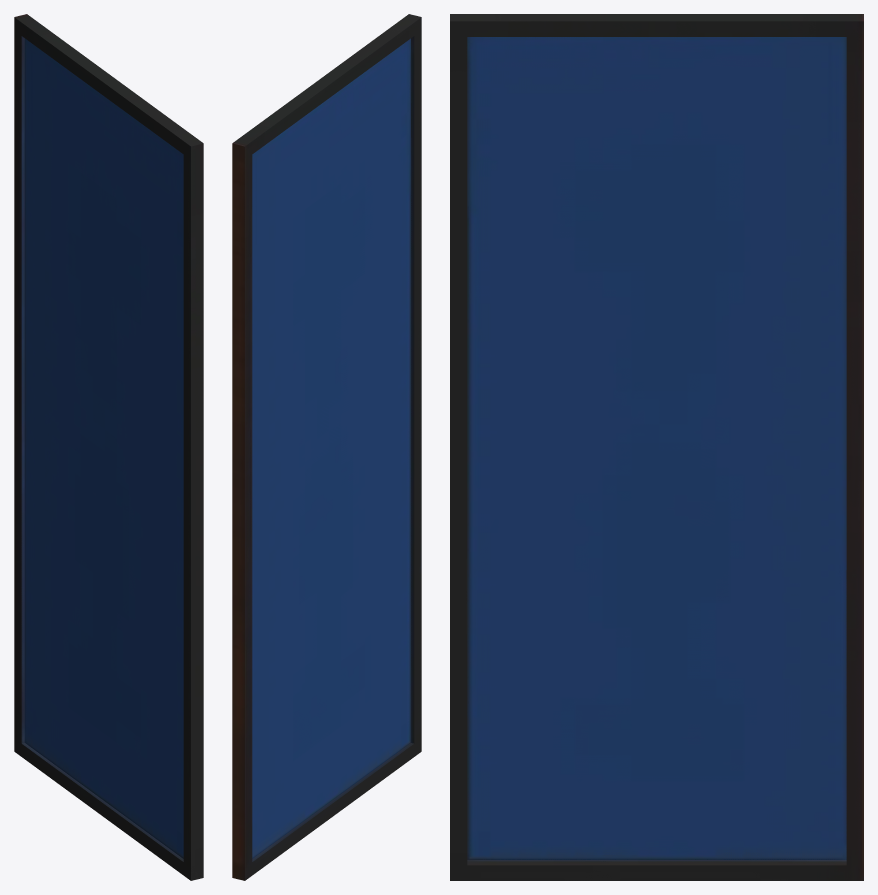
File: link_0__cabinet_door_surface-81.glb
3 views of the same model, side by side, from view 1: azimuth 30°, elevation 25°; view 2: azimuth 150°, elevation 25°; view 3: azimuth 270°, elevation 25° (orthographic). The views are drawn at different scales.
Visible parts, largest first — view 1: world; view 2: world; view 3: world.
Part boxes in pixels (bbox=[...]): world: bbox=[14, 14, 203, 880]; world: bbox=[232, 14, 421, 880]; world: bbox=[450, 14, 863, 880].
Bounding box in the file's own units: 0.0105 × 0.5776 × 0.2521.
Materials: 1 (1 with a texture image).
